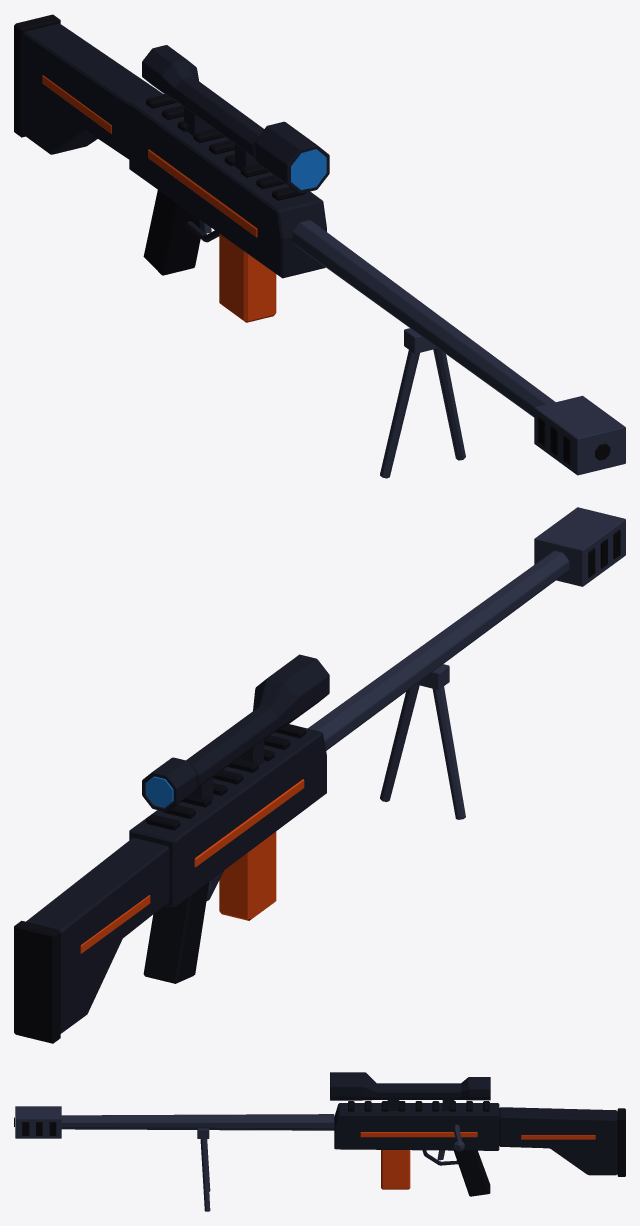
File: myw_antimaterielrifle.obj
The picture shows the model from 3 angles, top to bottom: view 1: azimuth 30°, elevation 25°; view 2: azimuth 150°, elevation 25°; view 3: azimuth 270°, elevation 25°; orthographic projection. The views are drawn at different scales.
Parts seen in each view (by area): view 1: Body, Barrel, Scope, Mag, Bipod; view 2: Body, Barrel, Scope, Mag, Bipod; view 3: Body, Barrel, Scope, Mag, Bipod.
Boxes of the visible parts, x1,y1,x2,y2 form: Body: [14, 14, 326, 278]; Barrel: [292, 220, 625, 475]; Scope: [142, 45, 329, 193]; Mag: [219, 233, 276, 322]; Bipod: [380, 328, 465, 478]; Body: [14, 724, 326, 1043]; Barrel: [308, 507, 625, 750]; Scope: [142, 654, 329, 812]; Mag: [219, 831, 276, 920]; Bipod: [380, 664, 465, 819]; Body: [334, 1101, 625, 1196]; Barrel: [14, 1106, 334, 1138]; Scope: [330, 1072, 490, 1110]; Mag: [381, 1150, 410, 1189]; Bipod: [197, 1128, 210, 1211].
Bounding box in the file's own units: 0.7356 × 1.66 × 7.24.
